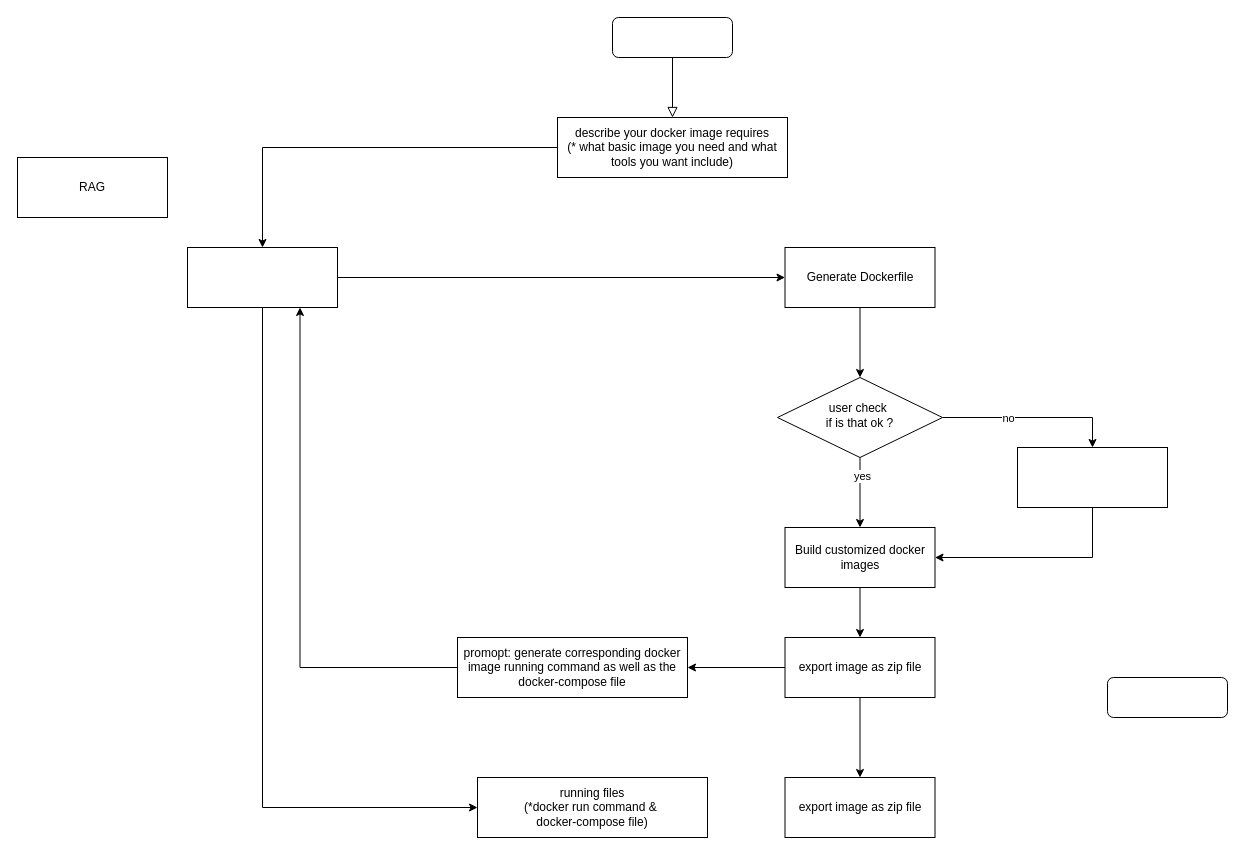
The diagram is 1245 pixels wide and 855 high, and some of its shapes have lost their labels. The centre of each missing label's shape, as x and y in pixels:
"LLMs" belongs at point (262, 277).
"Plug in lamp" belongs at point (1167, 697).
"Start" belongs at point (672, 37).
"user check the generated Dockerfile and modify it" belongs at point (1092, 477).
